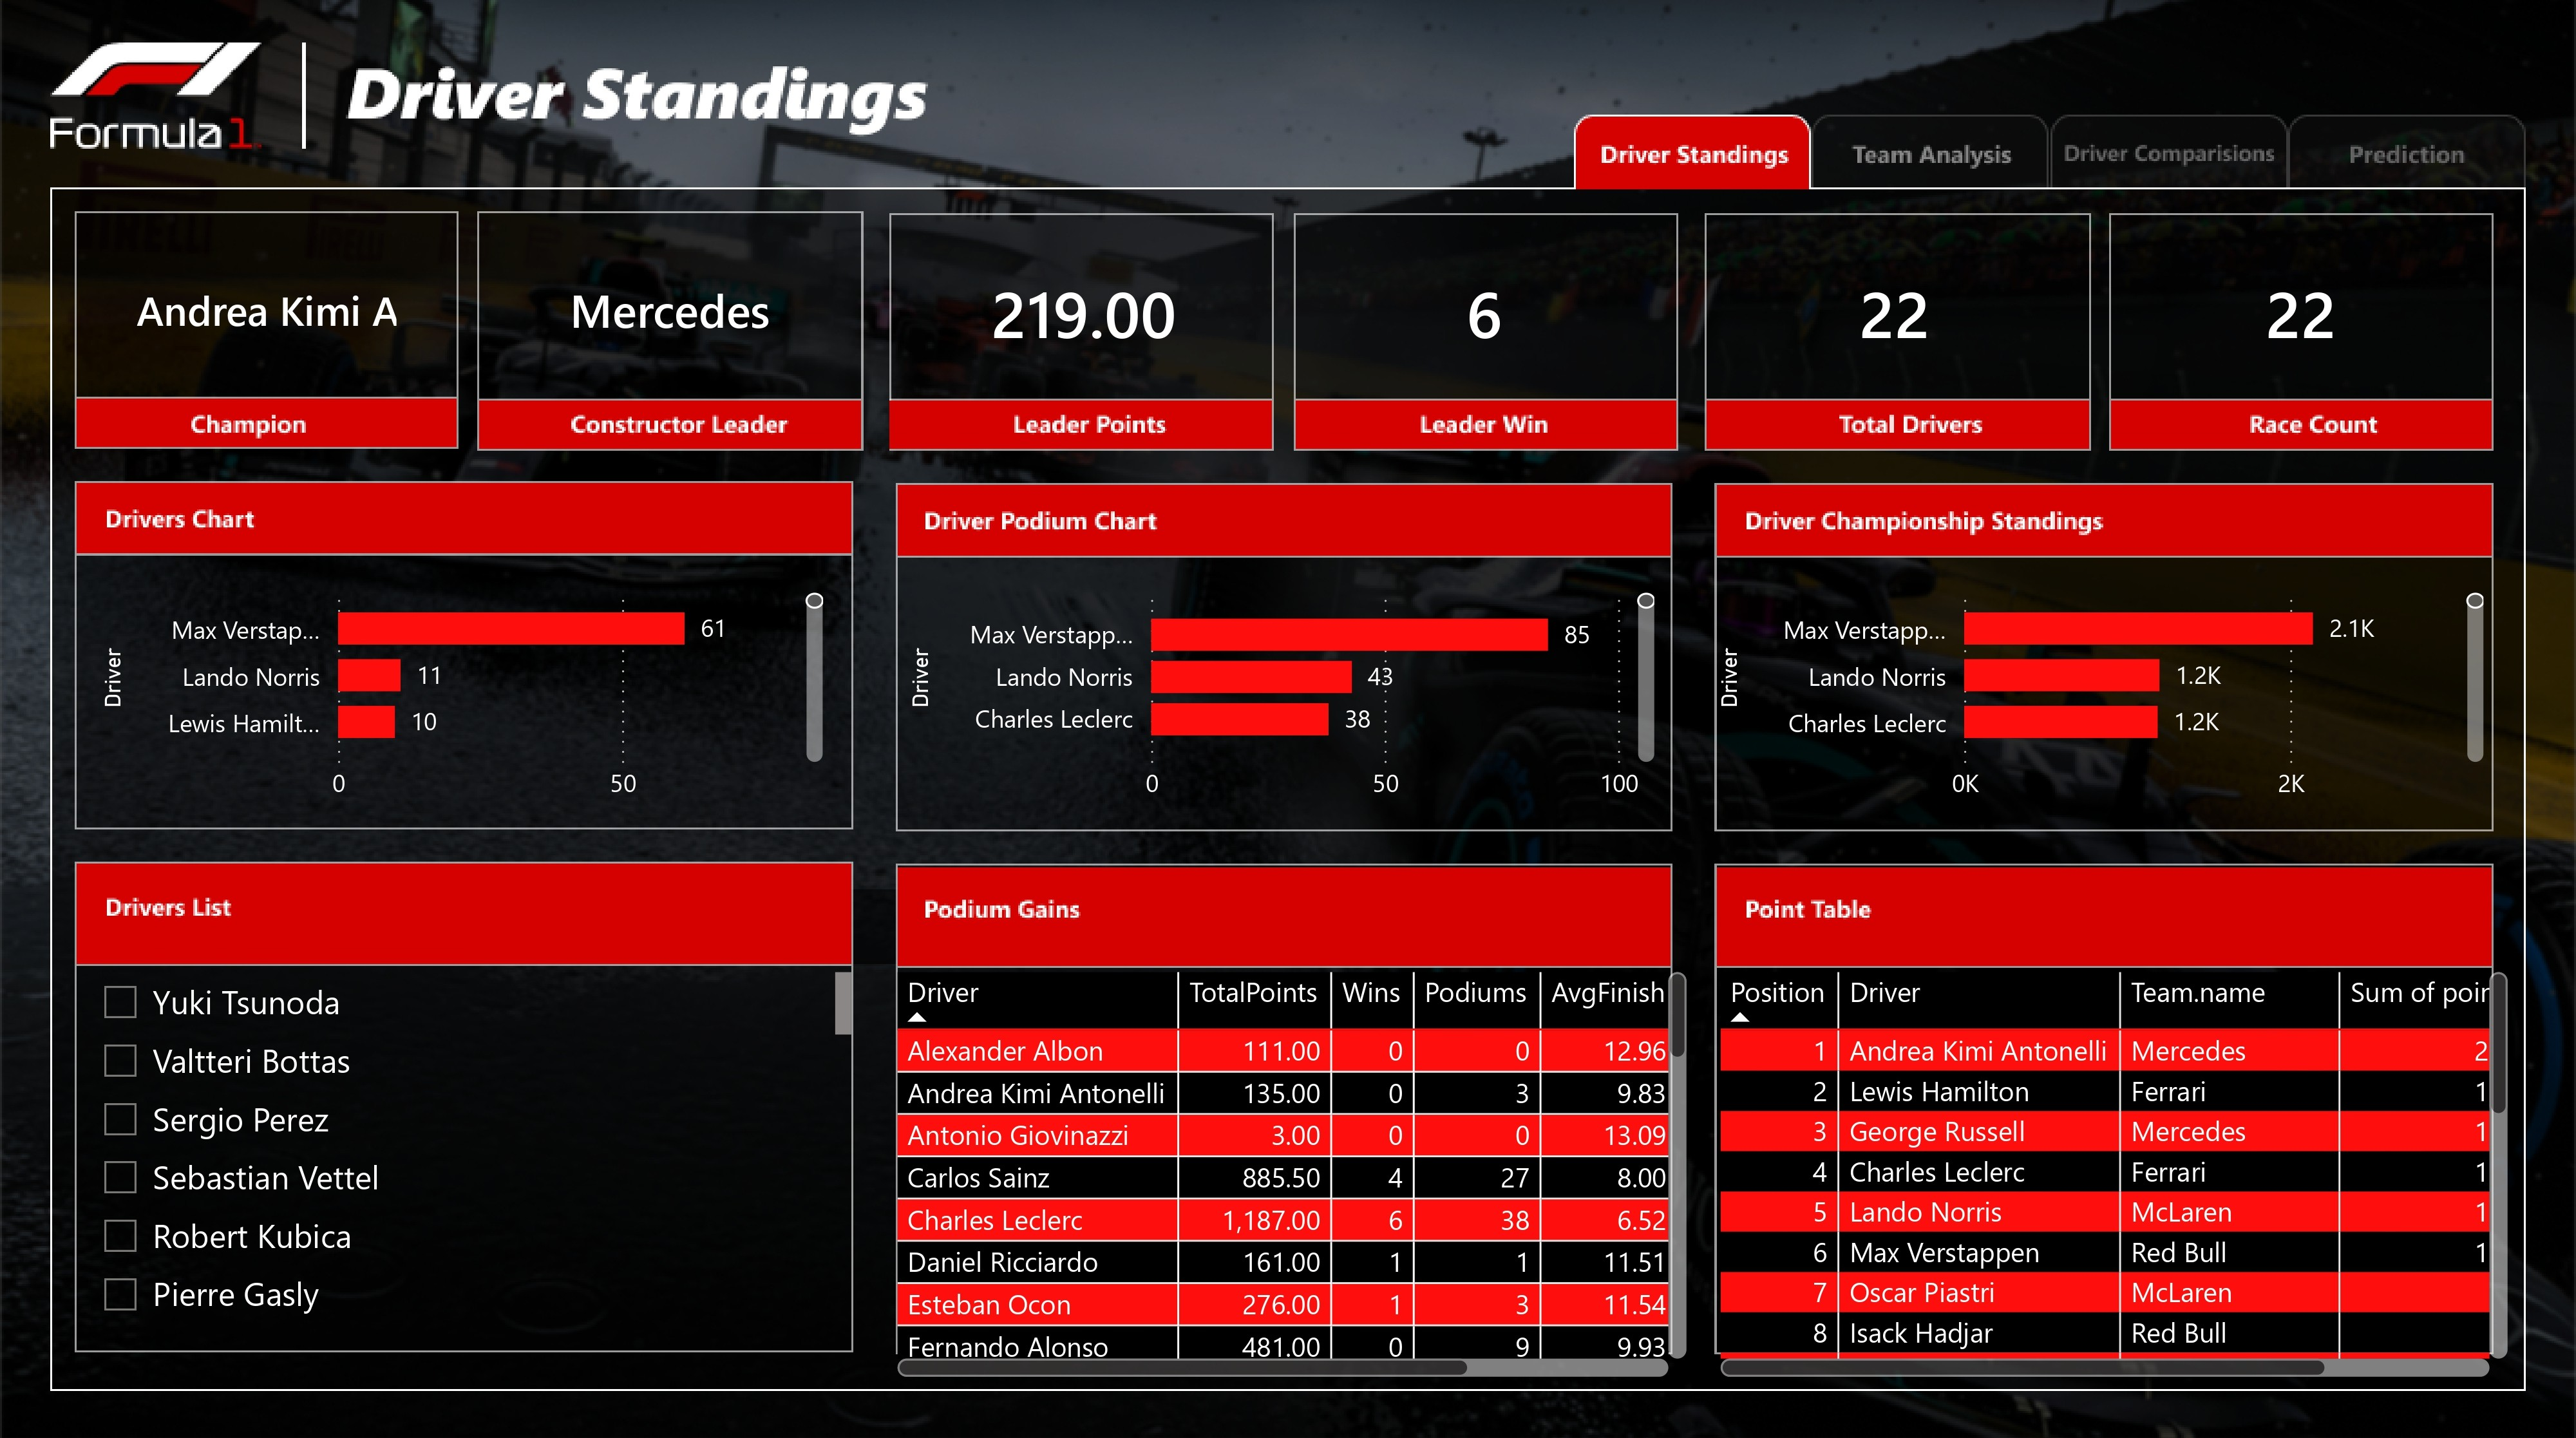

This screenshot's page, from the dashboard's own definition file:
{"tool":"powerbi","page":{"name":"Driver Standings","canvas":[1280,720],"ordinal":0},"visuals":[{"type":"tableEx","fields":{"Values":["driver_stats.Driver","driver_stats.TotalPoints","driver_stats.Wins","driver_stats.Podiums","driver_stats.AvgFinish","driver_stats.AvgPositionsGained"]},"box":[440.5,480,403.2,210.9],"z":0},{"type":"clusteredBarChart","title":"Driver Championship Standings","fields":{"Category":["driver_stats.Driver"],"Y":["Sum(driver_stats.TotalPoints)"]},"box":[848.9,284.4,390,125.6],"z":1000},{"type":"clusteredBarChart","title":"Driver Chart","fields":{"Category":["driver_stats.Driver"],"Y":["Sum(driver_stats.Wins)"]},"box":[45.6,284.4,367.8,125.6],"z":2000},{"type":"clusteredBarChart","title":"Driver Podium Chart","fields":{"Category":["driver_stats.Driver"],"Y":["Sum(driver_stats.Podiums)"]},"box":[446.7,284.4,380,125.6],"z":3000},{"type":"slicer","fields":{"Values":["driver_stats.Driver"]},"box":[38.9,480,388.9,190],"z":4000},{"type":"cardVisual","fields":{"Data":["Last Race Results.Champion"]},"box":[38.9,111.1,187.8,87],"z":5000},{"type":"cardVisual","fields":{"Data":["Last Race Results.Leader Points"]},"box":[446.7,111.1,183.3,88.9],"z":6000},{"type":"cardVisual","fields":{"Data":["Last Race Results.Leader Wins"]},"box":[648.9,111.1,177.8,88.9],"z":7000},{"type":"cardVisual","fields":{"Data":["Last Race Results.Total Drivers"]},"box":[848.9,111.1,185.6,88.9],"z":8000},{"type":"cardVisual","fields":{"Data":["Last Race Results.Constructor Leader"]},"box":[238.9,111.1,188.9,88.9],"z":9000},{"type":"cardVisual","fields":{"Data":["Last Race Results.Races Completed"]},"box":[1047.8,111.1,191.1,88.9],"z":10000},{"type":"tableEx","fields":{"Values":["Live Driver Standings.position","Live Driver Standings.Driver","Live Driver Standings.Team.name","Sum(Live Driver Standings.points)","Sum(Live Driver Standings.wins)"]},"box":[848.9,480,402.2,211.1],"z":11000}]}

Visuals, with their boxes in screenshot pixels (x1, y1, x2, y2), scaled from the page's 1280x720 canvas onto the 2576x1438 screenshot:
tableEx - driver_stats.Driver x driver_stats.TotalPoints: <region>887, 959, 1698, 1380</region>
"Driver Championship Standings" clusteredBarChart: <region>1709, 568, 2494, 819</region>
"Driver Chart" clusteredBarChart: <region>91, 568, 832, 819</region>
"Driver Podium Chart" clusteredBarChart: <region>899, 568, 1663, 819</region>
slicer - driver_stats.Driver: <region>79, 959, 861, 1338</region>
cardVisual - Last Race Results.Champion: <region>79, 222, 456, 395</region>
cardVisual - Last Race Results.Leader Points: <region>899, 222, 1268, 399</region>
cardVisual - Last Race Results.Leader Wins: <region>1306, 222, 1663, 399</region>
cardVisual - Last Race Results.Total Drivers: <region>1709, 222, 2082, 399</region>
cardVisual - Last Race Results.Constructor Leader: <region>481, 222, 861, 399</region>
cardVisual - Last Race Results.Races Completed: <region>2108, 222, 2494, 399</region>
tableEx - Live Driver Standings.position x Live Driver Standings.Driver: <region>1709, 959, 2518, 1380</region>
